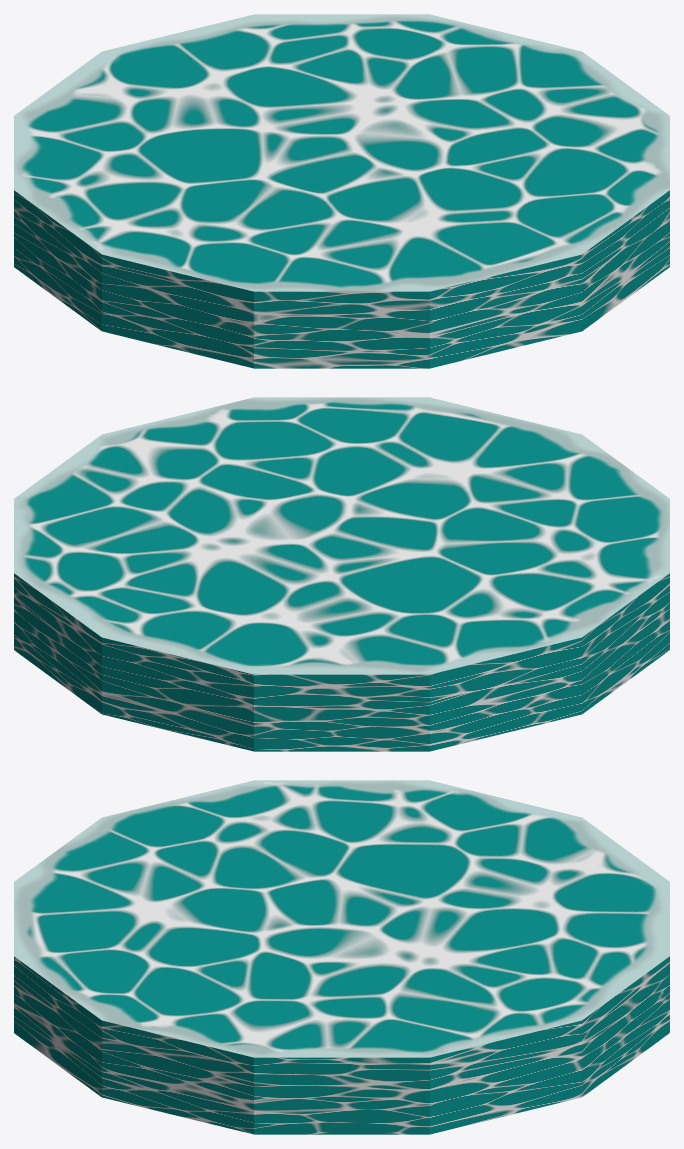
Rendered from bucket_water.glb.
The picture shows the model from 3 angles, top to bottom: view 1: azimuth 30°, elevation 25°; view 2: azimuth 150°, elevation 25°; view 3: azimuth 270°, elevation 25°; orthographic projection.
Visible parts, largest first — view 1: BucketWater; view 2: BucketWater; view 3: BucketWater.
Boxes of the visible parts, left/top/right/bottom form: BucketWater: left=14, top=14, right=669, bottom=368; BucketWater: left=14, top=397, right=669, bottom=751; BucketWater: left=14, top=780, right=669, bottom=1134.
Size of the model in its own units: 0.3864 by 0.05 by 0.3864.
1 material, 1 textured.
